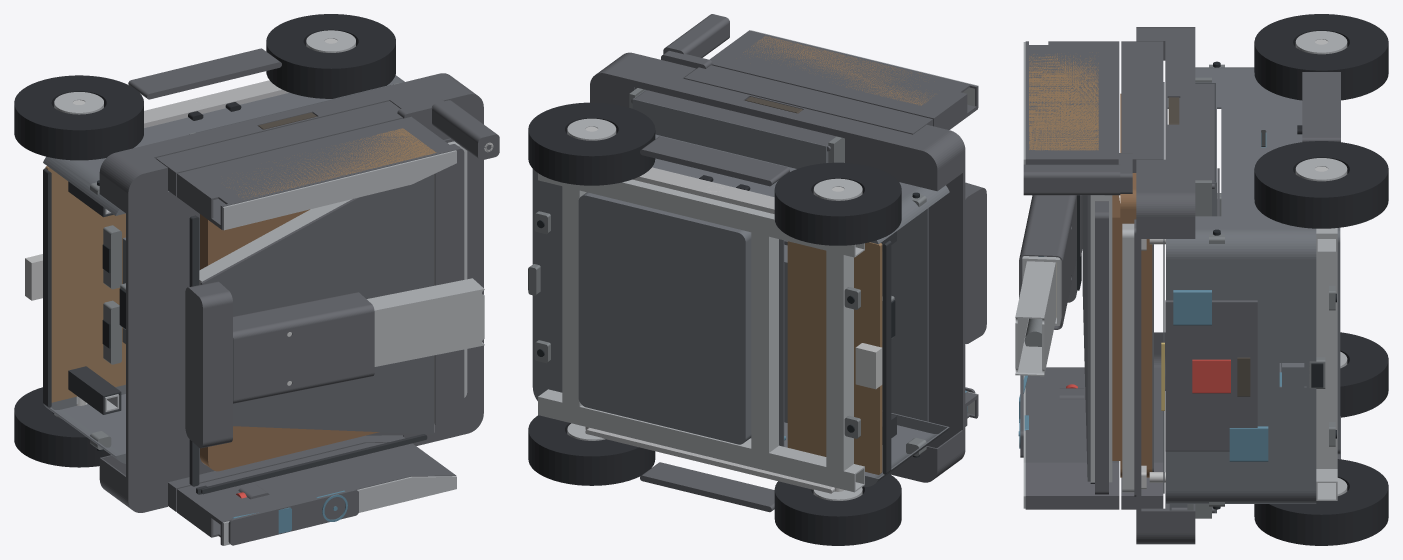
Rendered from workcore_e6_dfr5_follow.glb.
The picture shows the model from 3 angles, left to right: view 1: azimuth 30°, elevation 25°; view 2: azimuth 150°, elevation 25°; view 3: azimuth 270°, elevation 25°; orthographic projection. The views are drawn at different scales.
Parts seen in each view (by area): view 1: upper_deck_panel, backrest_rear_cosmetic_shell, mast_outer_cosmetic_shroud_folded, armrest_shell_right, footrest_platform_stowed, armrest_shell_left, tyre_front_right, tyre_rear_right, mast_inner_folded, sensor_beam_shell_folded, lower_body_enclosure, seat_cushion_envelope (+23 smaller); view 2: battery_safety_cassette, upper_deck_panel, footrest_platform_stowed, lower_body_enclosure, armrest_shell_right, tyre_front_right, tyre_rear_right, occupant_energy_firewall, chassis_rail_left, tyre_front_left, chassis_crossmember_2, tyre_rear_left (+18 smaller); view 3: lower_body_enclosure, upper_deck_panel, service_rear_flush_door, armrest_shell_right, tyre_rear_right, armrest_shell_left, tyre_front_right, tyre_rear_left, desk_bundle_stowed_right, armrest_base_shell_right, chassis_crossmember_3, travel_hinge_local_weather_bridge (+30 smaller).
Boxes of the visible parts, <box> form: upper_deck_panel: <box>99,73,483,512</box>; backrest_rear_cosmetic_shell: <box>200,174,433,434</box>; mast_outer_cosmetic_shroud_folded: <box>233,292,374,403</box>; armrest_shell_right: <box>177,116,456,230</box>; footrest_platform_stowed: <box>45,166,125,402</box>; armrest_shell_left: <box>177,442,456,545</box>; tyre_front_right: <box>14,75,143,160</box>; tyre_rear_right: <box>266,14,395,98</box>; mast_inner_folded: <box>367,278,484,366</box>; sensor_beam_shell_folded: <box>185,281,232,448</box>; lower_body_enclosure: <box>43,75,404,463</box>; seat_cushion_envelope: <box>200,209,379,471</box>; battery_safety_cassette: <box>578,192,751,444</box>; upper_deck_panel: <box>590,52,965,482</box>; footrest_platform_stowed: <box>787,241,882,474</box>; lower_body_enclosure: <box>532,134,949,486</box>; armrest_shell_right: <box>709,30,977,129</box>; tyre_front_right: <box>774,162,901,245</box>; tyre_rear_right: <box>528,102,655,185</box>; occupant_energy_firewall: <box>882,208,928,421</box>; chassis_rail_left: <box>538,389,864,492</box>; tyre_front_left: <box>774,474,901,545</box>; chassis_crossmember_2: <box>751,224,778,460</box>; tyre_rear_left: <box>528,415,655,485</box>; lower_body_enclosure: <box>1166,67,1316,503</box>; upper_deck_panel: <box>1136,27,1195,544</box>; service_rear_flush_door: <box>1165,300,1257,451</box>; armrest_shell_right: <box>1025,41,1119,164</box>; tyre_rear_right: <box>1254,141,1388,228</box>; armrest_shell_left: <box>1025,367,1119,509</box>; tyre_front_right: <box>1254,14,1388,100</box>; tyre_rear_left: <box>1254,459,1388,545</box>; desk_bundle_stowed_right: <box>1029,52,1098,150</box>; armrest_base_shell_right: <box>1121,41,1163,172</box>; chassis_crossmember_3: <box>1316,235,1337,468</box>; travel_hinge_local_weather_bridge: <box>1095,201,1108,494</box>.
Bounding box in the file's own units: 0.8348 × 0.735 × 0.6954.
